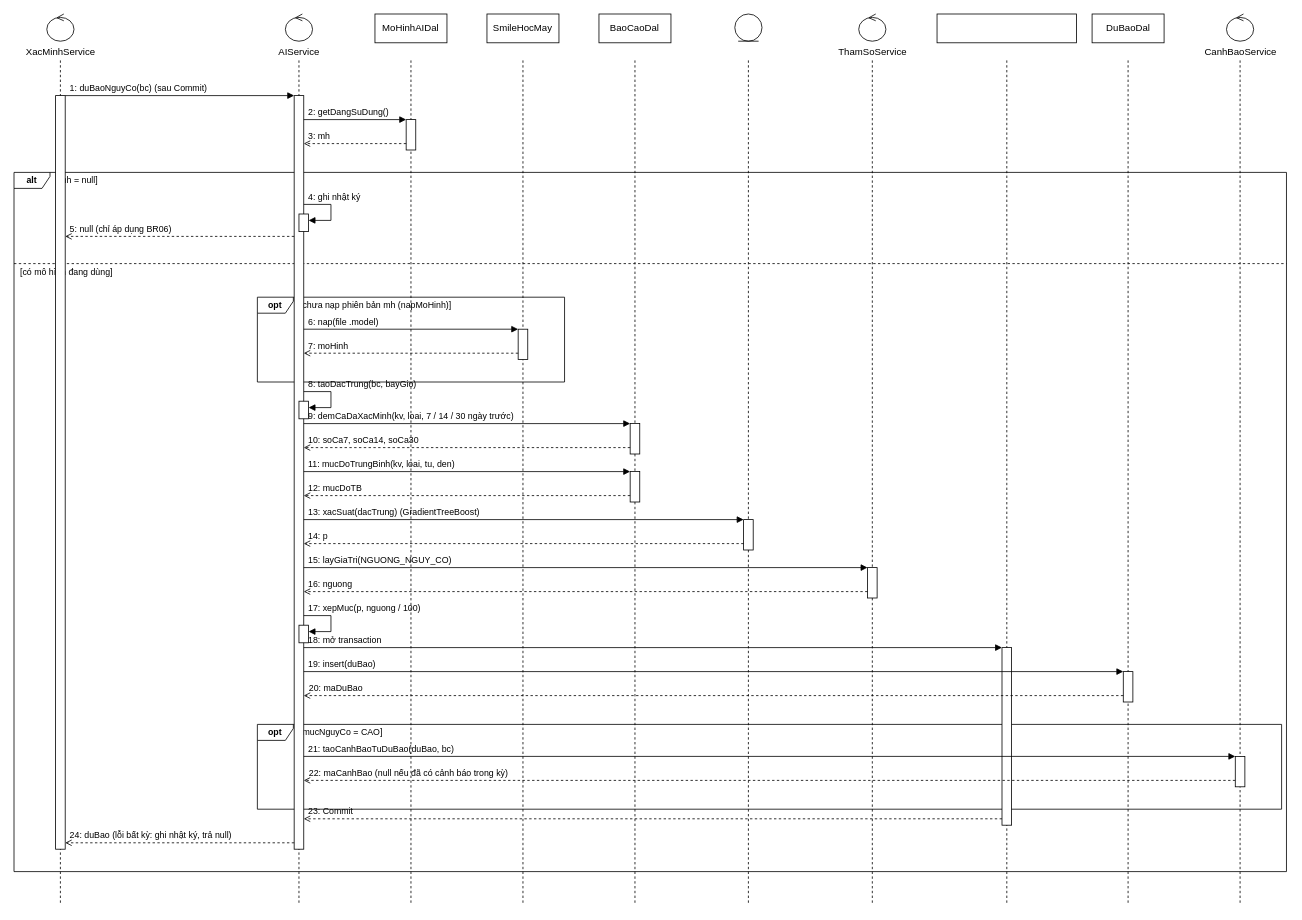
Image size: 1302x920. Some labels were removed from this diagram. The shapes that lost their labels are listed below. From the top down, each one's box as (x1, y1, x2, y2) in pixels, then its label:
(734, 13, 762, 41): moHinh : MoHinhDuBao
(936, 13, 1077, 43): tx : TransactionTemplate
